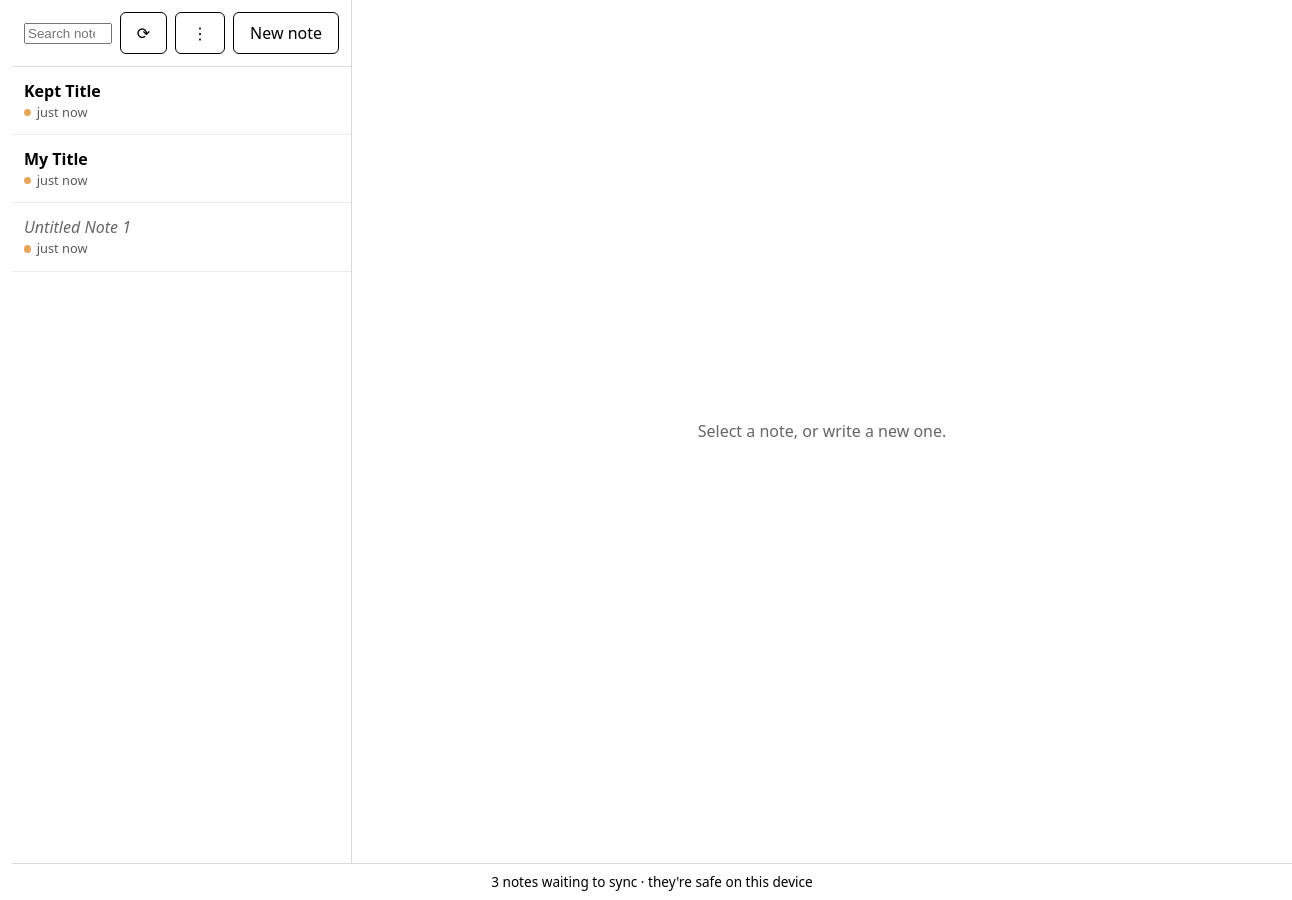
Scenario: AppShell › the conflict redirect: same textarea, same text, same selection, replaceState only, banner shown
Click the button "New note": (286, 33) [233, 12, 339, 54]
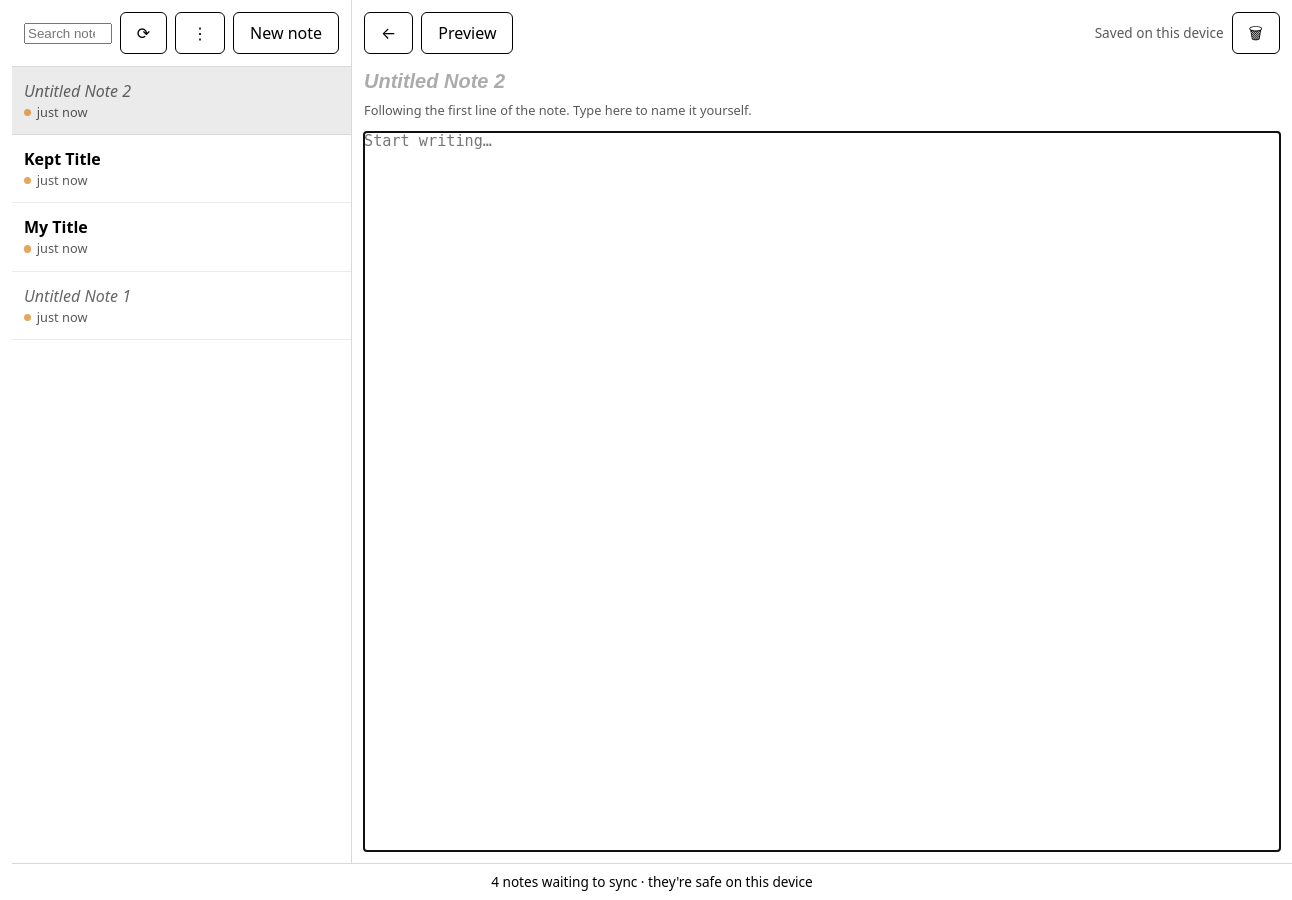
Check: the text box named "Note body" is shown
In the text box named "Note body": (822, 491) [364, 132, 1280, 851], type "My version of the text"
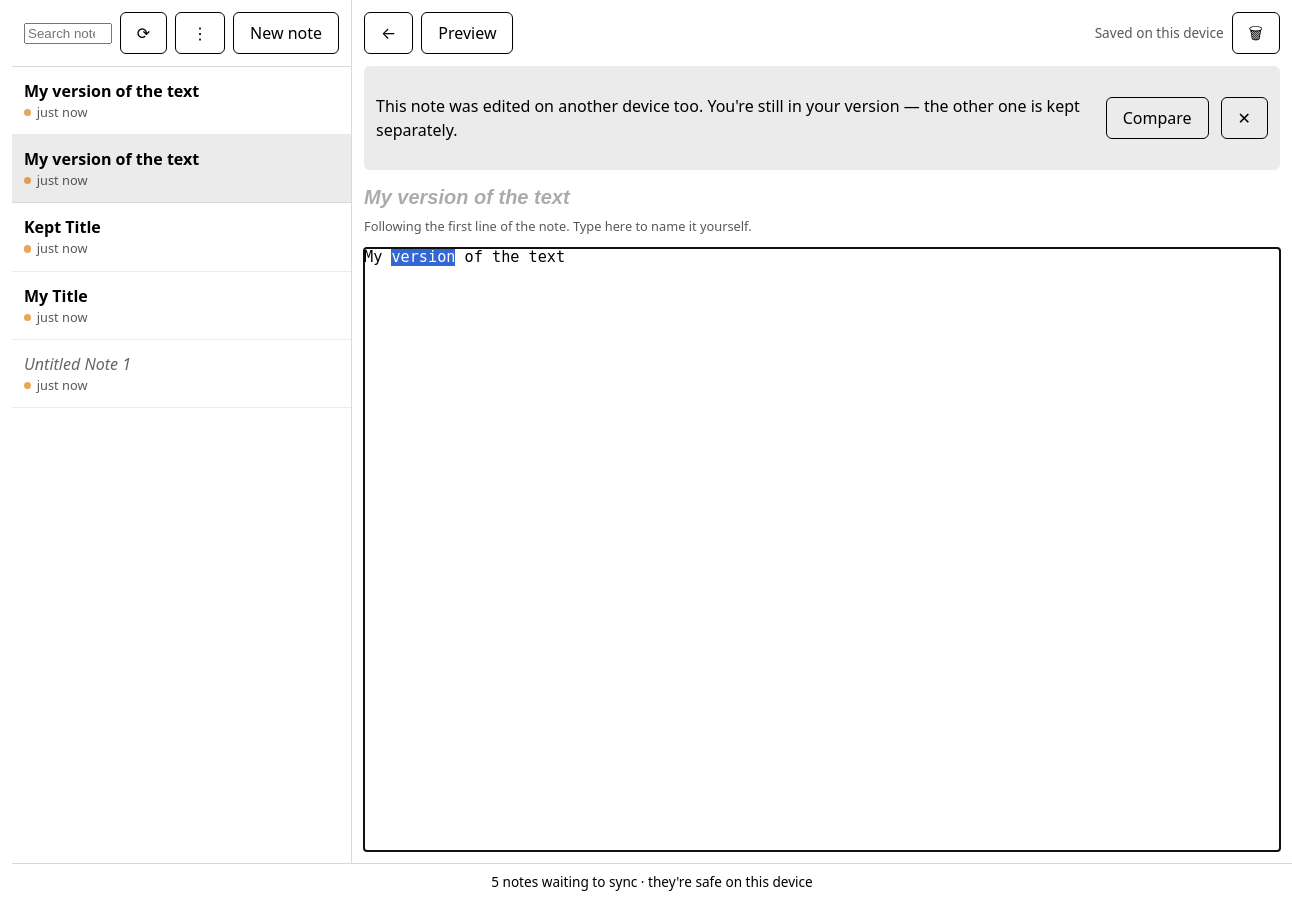
Check: the 1st button "My version of the text just now" is shown, box [12, 67, 351, 135]
Check: the text "This note was edited on another device too" is shown, box [376, 95, 1080, 141]
Check: the button "Compare" is shown, box [1106, 97, 1209, 139]
